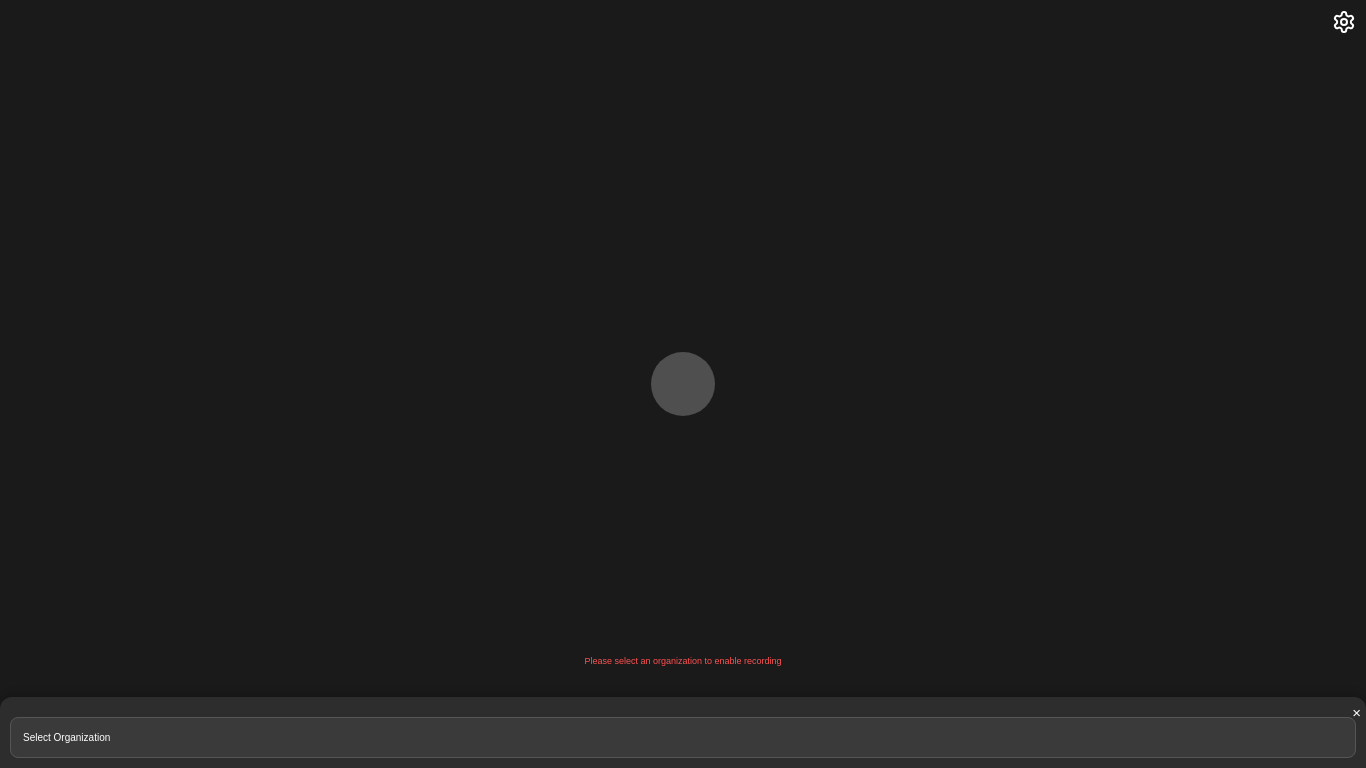
Scenario: AudioRecorder › completes the full organization/board/list selection process
# Select an organization
Select "Test Organization" in the dropdown: [683, 738] box [10,717,1356,758]
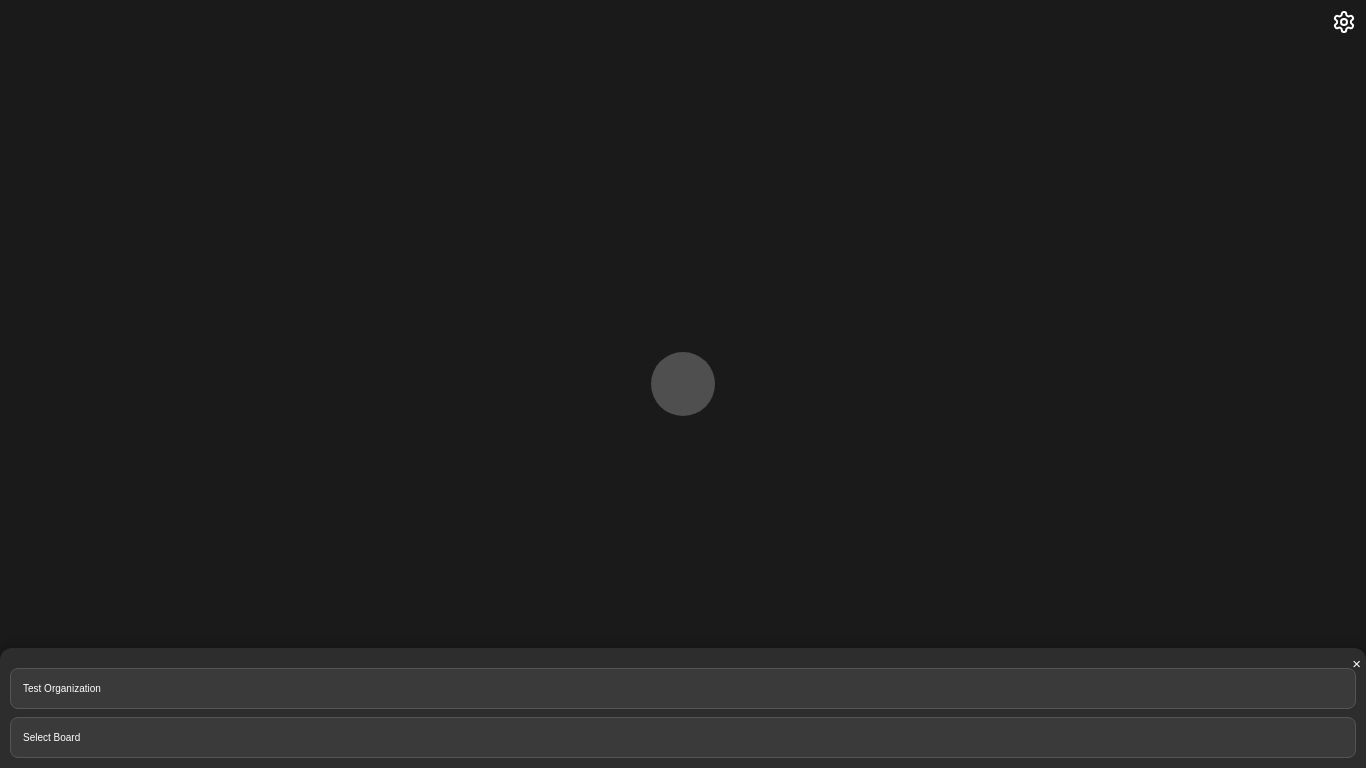
Expected: the number of dropdowns is 2
Select "Test Board" in the dropdown named "Select Board": [683, 738] box [10,717,1356,758]
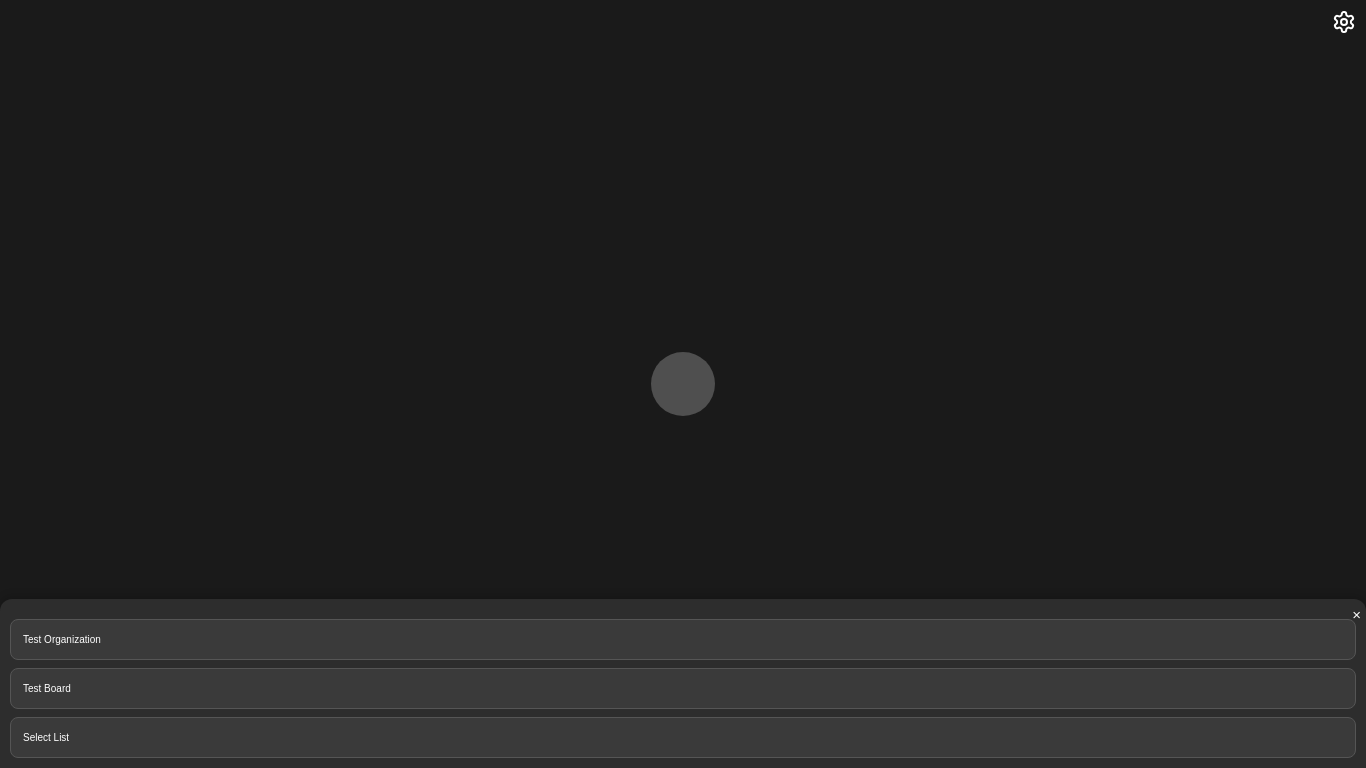
Expected: the number of dropdowns is 3
Select "Test List" in the 3rd dropdown: [683, 738] box [10,717,1356,758]
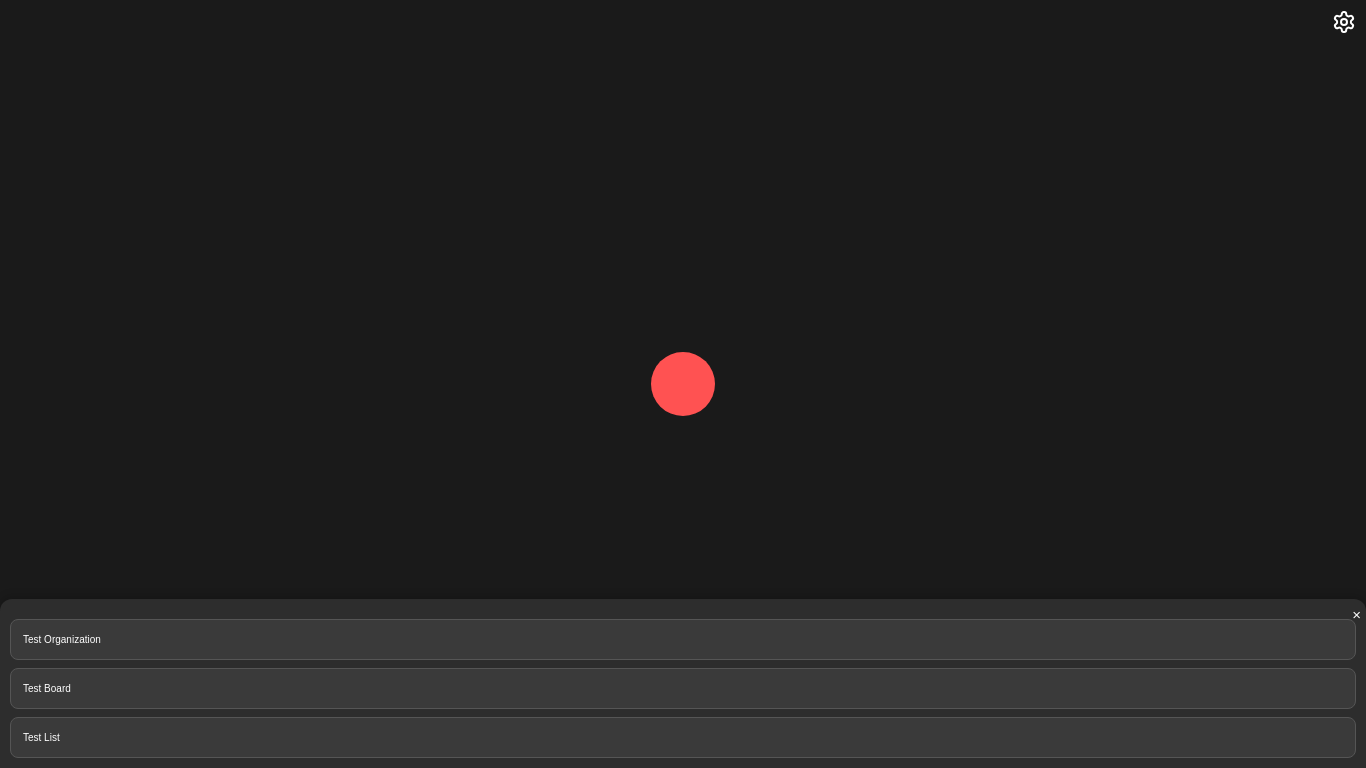
Expected: the text "Please select" is not shown
Expected: the button named "start recording" is enabled, [651,352,715,416]
